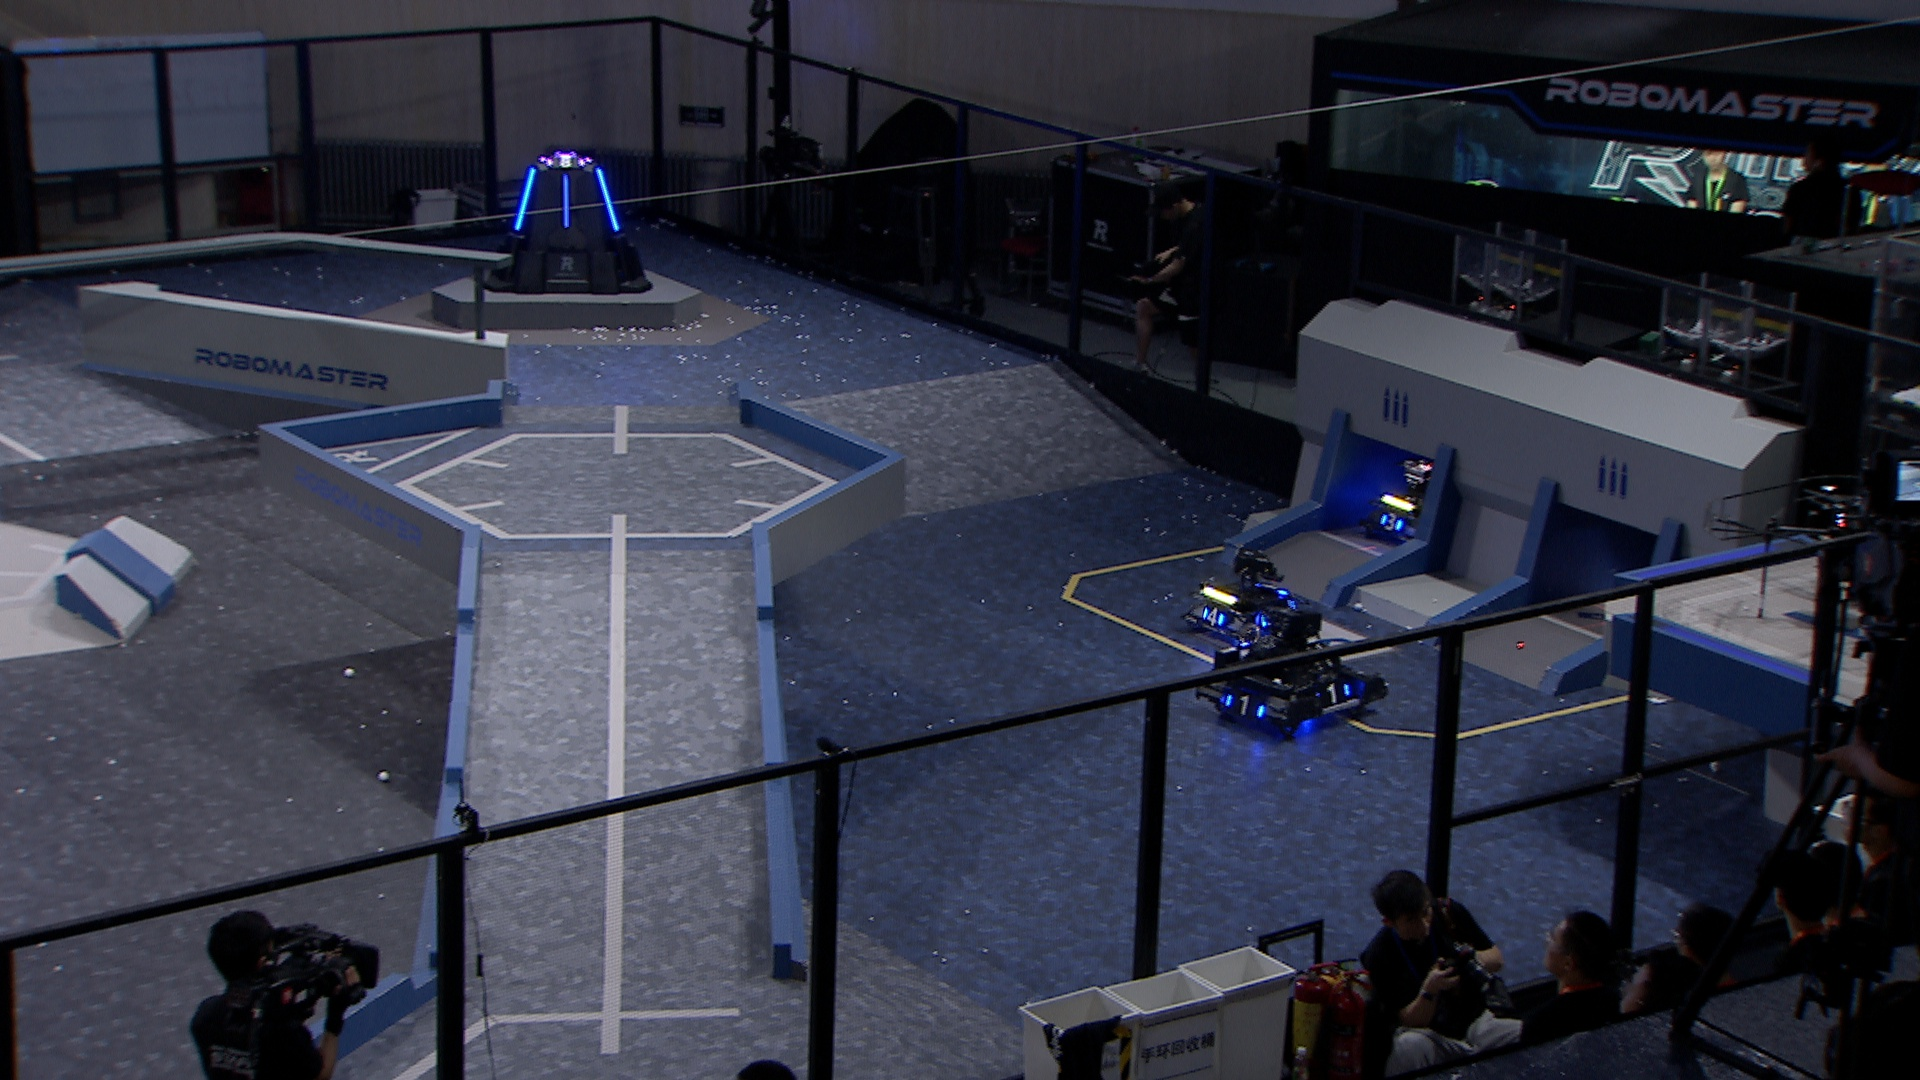armor: (509, 166, 538, 233), (595, 166, 622, 233), (1222, 694, 1266, 721), (1317, 683, 1356, 707), (1375, 512, 1404, 534), (560, 174, 571, 229), (1199, 607, 1226, 626)
base: (475, 145, 651, 295)
car: (1193, 603, 1390, 736), (1179, 546, 1304, 647), (1364, 458, 1457, 543)
ignore: (543, 154, 588, 169)
